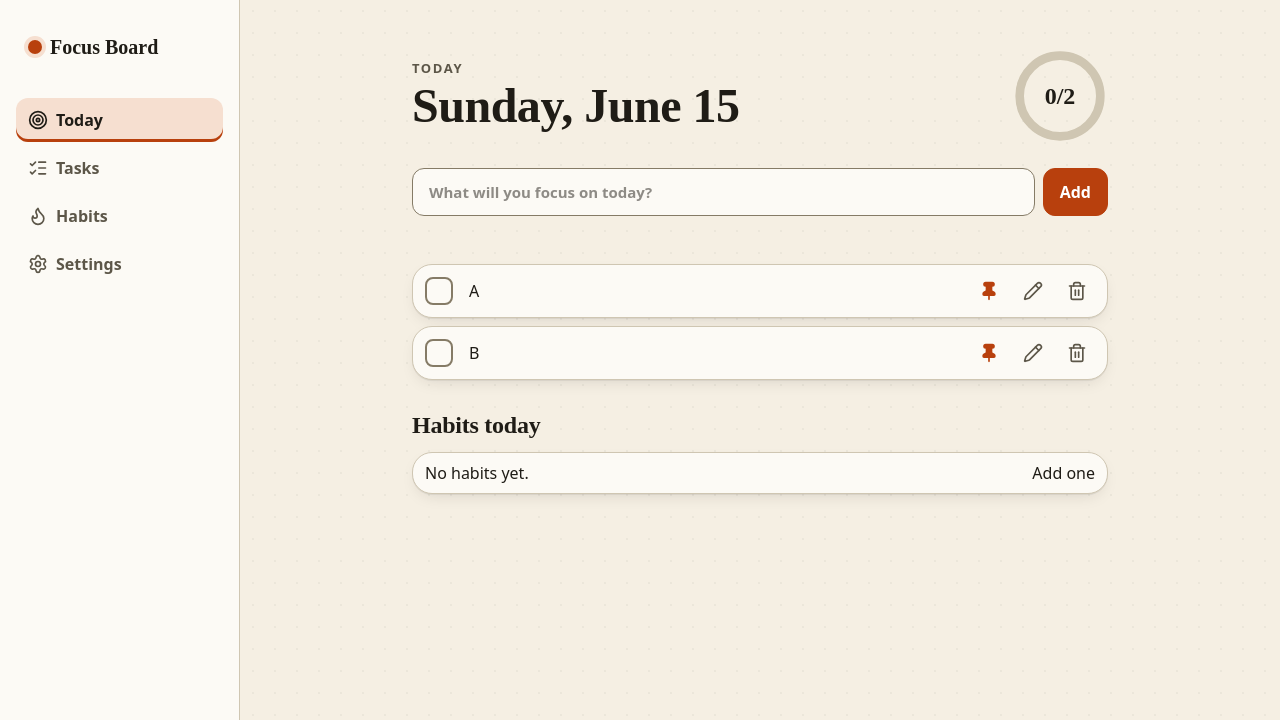
it: AC2: completing tasks › toggles done and updates the Today progress
Expected: the picture named "0 of 2 done" is shown, [1012, 48, 1108, 144]
What coordinates should you click on to do the following:
click the checkbox named "Mark “A” as done"
I would click on:
 (439, 291)
Its box is [425, 277, 453, 305].
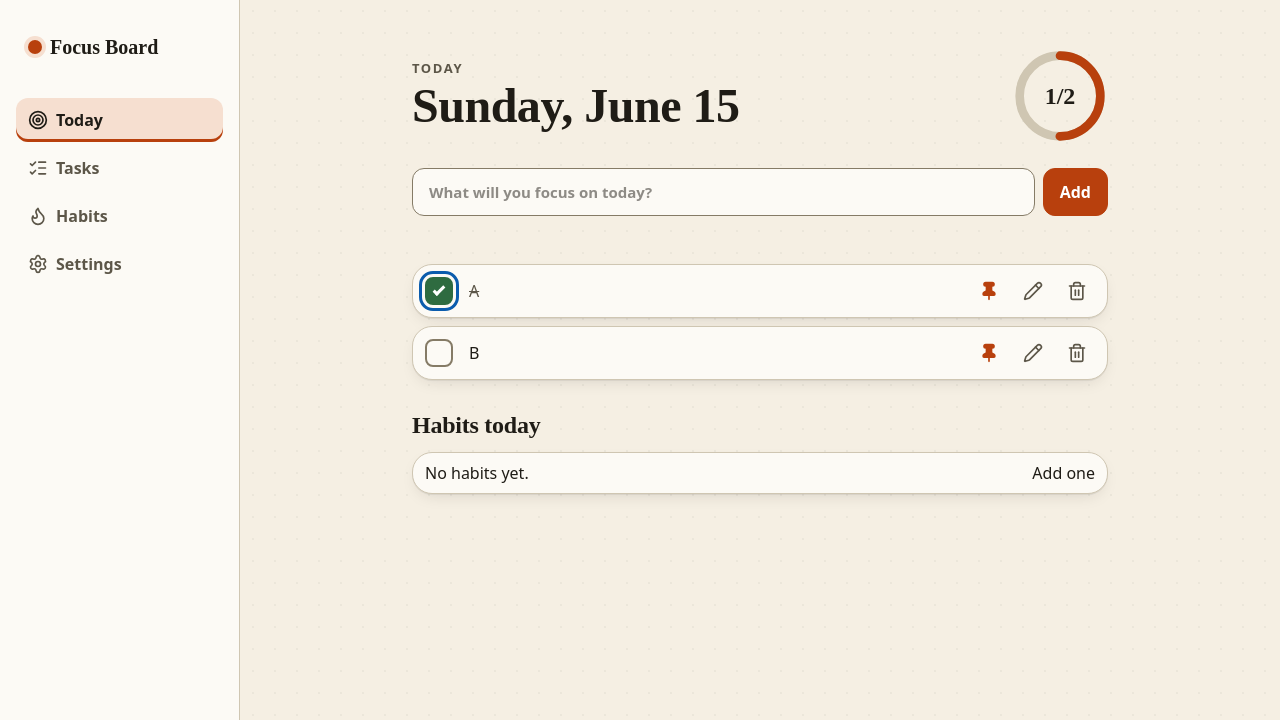
Now the picture named "1 of 2 done" is shown, box [1012, 48, 1108, 144]
What coordinates should you click on to do the following:
click the checkbox named "Mark “A” as done"
I would click on:
 (439, 291)
Its box is [425, 277, 453, 305].
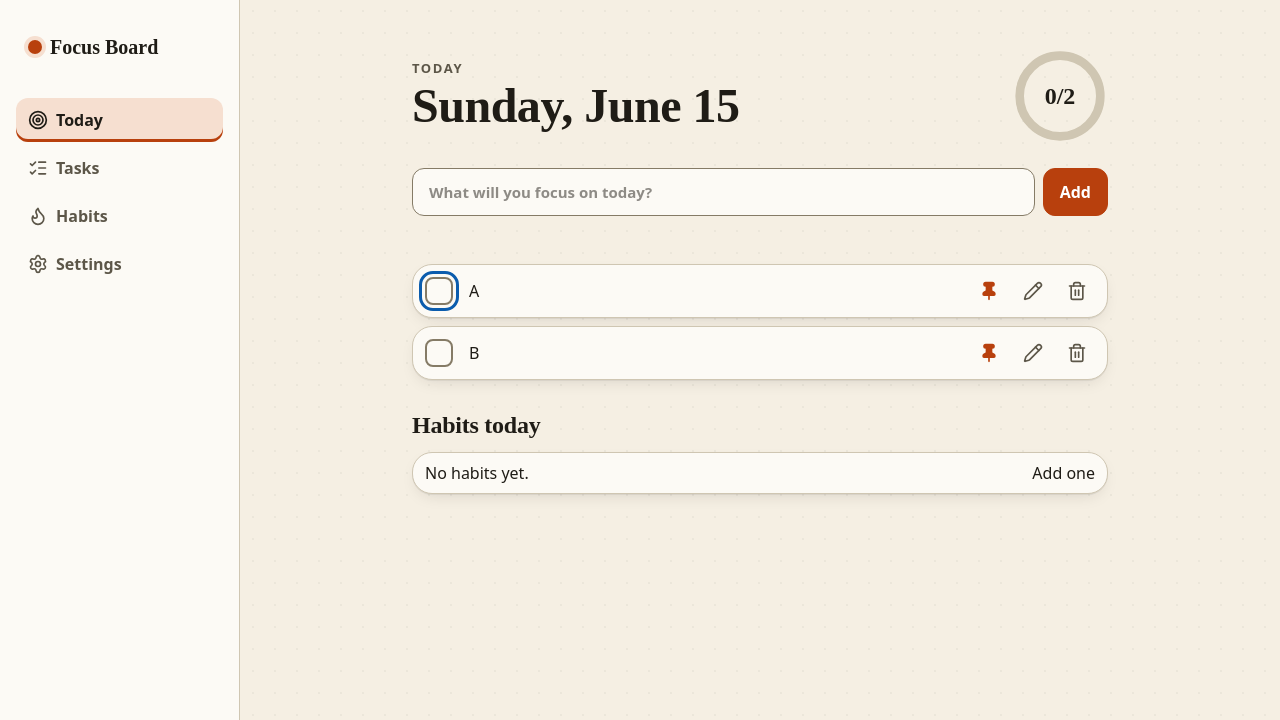
Now the picture named "0 of 2 done" is shown, box [1012, 48, 1108, 144]
